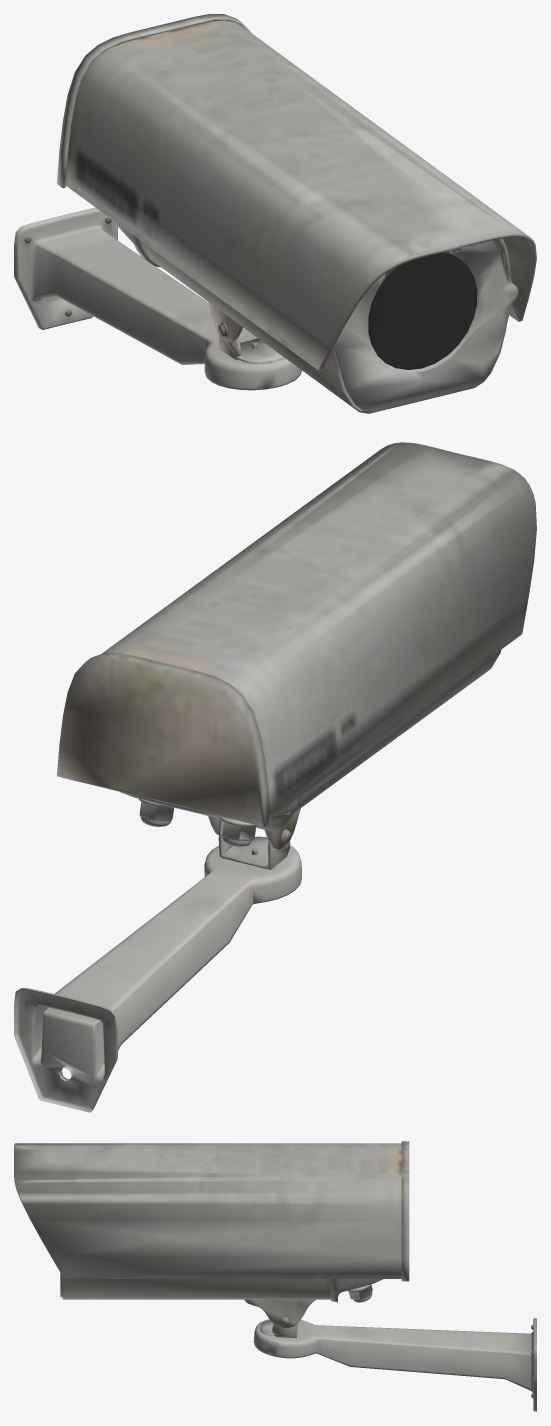
The model's file is security_camera_01.glb.
3 renders of one model, top to bottom at view 1: azimuth 30°, elevation 25°; view 2: azimuth 150°, elevation 25°; view 3: azimuth 270°, elevation 25°, orthographic. The views are drawn at different scales.
Parts seen in each view (by area): view 1: security_camera_01; view 2: security_camera_01; view 3: security_camera_01.
Part boxes in pixels (box(x1,y1,x2,y2)): security_camera_01: box(14, 14, 536, 413); security_camera_01: box(14, 442, 536, 1112); security_camera_01: box(14, 1141, 536, 1411).
Bounding box in the file's own units: 0.1695 × 0.2861 × 0.5537.
Materials: 2 (2 with a texture image).
